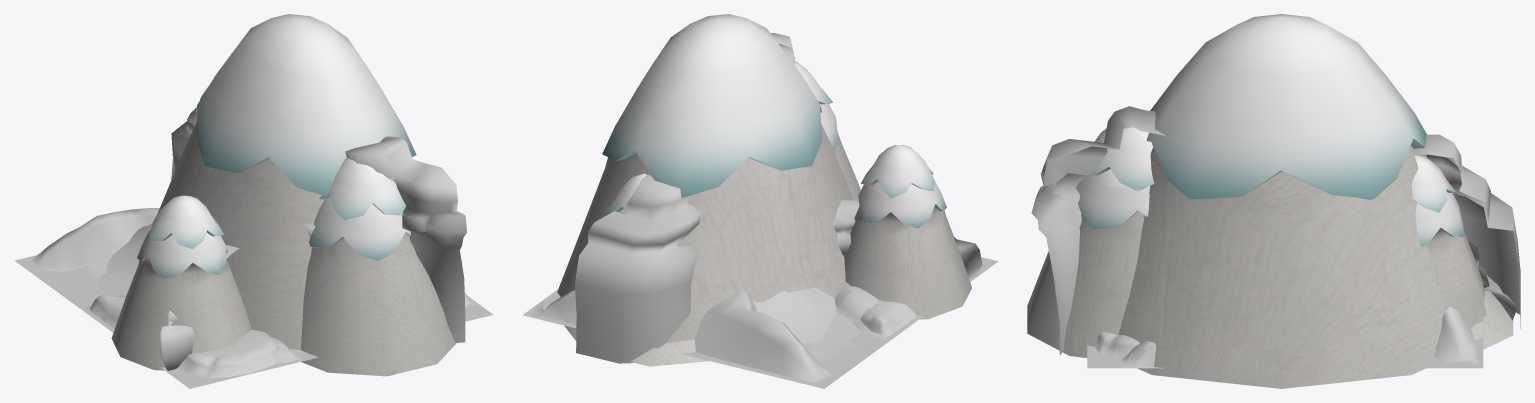
The model's file is halloween_track_FBX.fbx.
The picture shows the model from 3 angles, left to right: view 1: azimuth 30°, elevation 25°; view 2: azimuth 150°, elevation 25°; view 3: azimuth 270°, elevation 25°; orthographic projection. The views are drawn at different scales.
Visible parts, largest first — view 1: BG_Rocks_3a, BG_Rocks_2a, BG_Rocks_1a, BG_Rocks_1, road_90_turn2, road_90_turn_flip, road_90_turn2_flip, road_straight2, BG_Rocks_3, road_straight, road_90_turn; view 2: BG_Rocks_3a, BG_Rocks_1, BG_Rocks_1a, road_90_turn2, road_90_turn2_flip, BG_Rocks_2a, road_straight2, BG_Rocks_3, road_90_turn_flip, road_straight, hill_large; view 3: BG_Rocks_3a, BG_Rocks_2a, BG_Rocks_1, BG_Rocks_1a, road_90_turn2_flip, hill_large, road_90_turn, BG_Rocks_2, road_straight2, road_90_turn2.
Part boxes in pixels (bbox=[...]): BG_Rocks_3a: bbox=[157, 14, 416, 350]; BG_Rocks_2a: bbox=[301, 158, 456, 376]; BG_Rocks_1a: bbox=[111, 195, 251, 370]; BG_Rocks_1: bbox=[29, 87, 466, 342]; road_90_turn2: bbox=[16, 208, 308, 379]; road_90_turn_flip: bbox=[15, 255, 486, 378]; road_90_turn2_flip: bbox=[21, 223, 489, 371]; road_straight2: bbox=[15, 255, 308, 382]; BG_Rocks_3: bbox=[159, 244, 238, 370]; road_straight: bbox=[58, 292, 493, 388]; road_90_turn: bbox=[17, 257, 487, 386]; BG_Rocks_3a: bbox=[557, 14, 853, 342]; BG_Rocks_1: bbox=[575, 33, 996, 363]; BG_Rocks_1a: bbox=[606, 145, 971, 319]; road_90_turn2: bbox=[690, 282, 888, 382]; road_90_turn2_flip: bbox=[533, 259, 992, 342]; BG_Rocks_2a: bbox=[564, 61, 860, 366]; road_straight2: bbox=[575, 258, 997, 387]; BG_Rocks_3: bbox=[832, 200, 982, 279]; road_90_turn_flip: bbox=[555, 257, 993, 385]; road_straight: bbox=[695, 264, 992, 362]; hill_large: bbox=[523, 258, 997, 388]; BG_Rocks_3a: bbox=[1118, 14, 1483, 388]; BG_Rocks_2a: bbox=[1027, 127, 1513, 357]; BG_Rocks_1: bbox=[1031, 106, 1520, 366]; BG_Rocks_1a: bbox=[1411, 155, 1486, 327]; road_90_turn2_flip: bbox=[1407, 306, 1481, 367]; hill_large: bbox=[1087, 337, 1483, 368]; road_90_turn: bbox=[1087, 332, 1483, 368]; BG_Rocks_2: bbox=[1468, 241, 1516, 320]; road_straight2: bbox=[1088, 356, 1483, 368]; road_90_turn2: bbox=[1087, 342, 1483, 367].
Size of the model in its own units: 18155 by 13839 by 19941.
